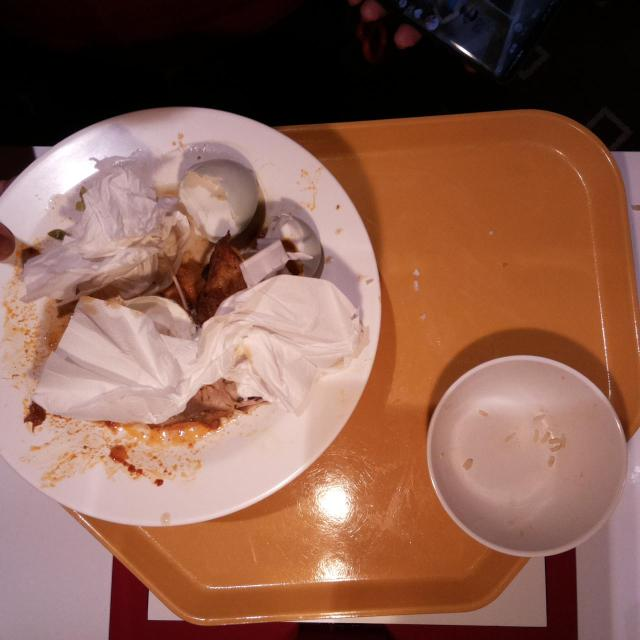Egg-shell: (179, 158, 260, 242), (265, 210, 325, 288)
